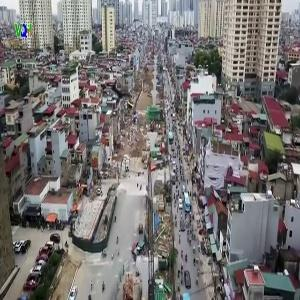drone: (83, 61, 149, 127)
